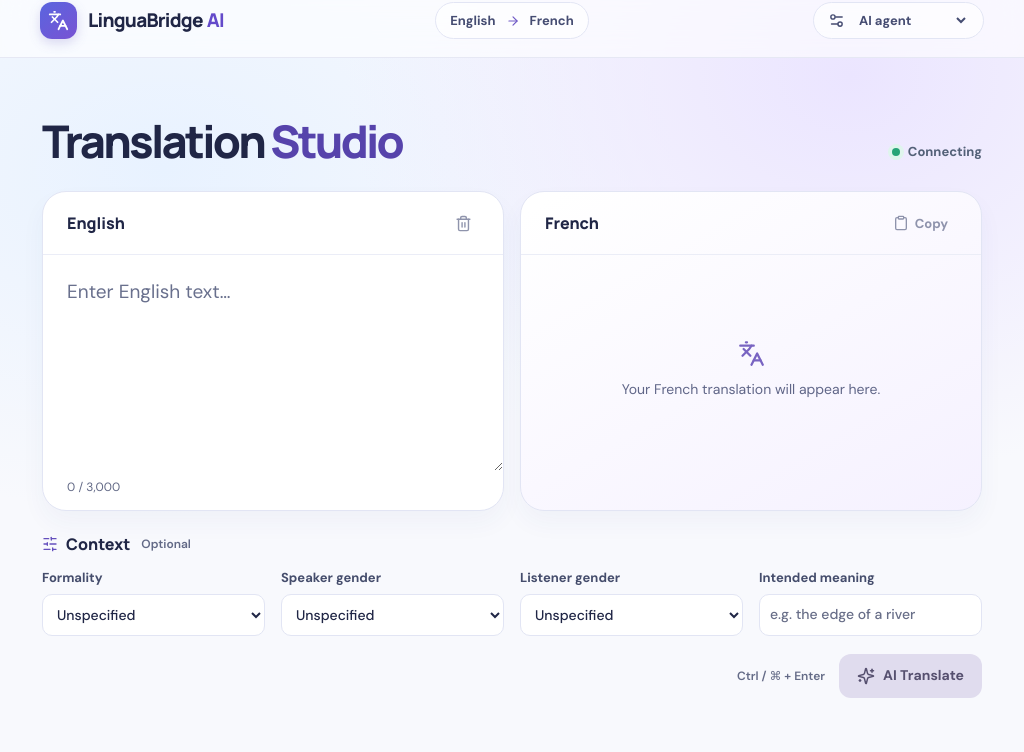
Test: translation studio › shows a request failure and lets the user retry
Type "Hello." into the text box labelled "English".
click(273, 364); type("Hello.")  # box top-left (43, 256), bottom-right (503, 472)
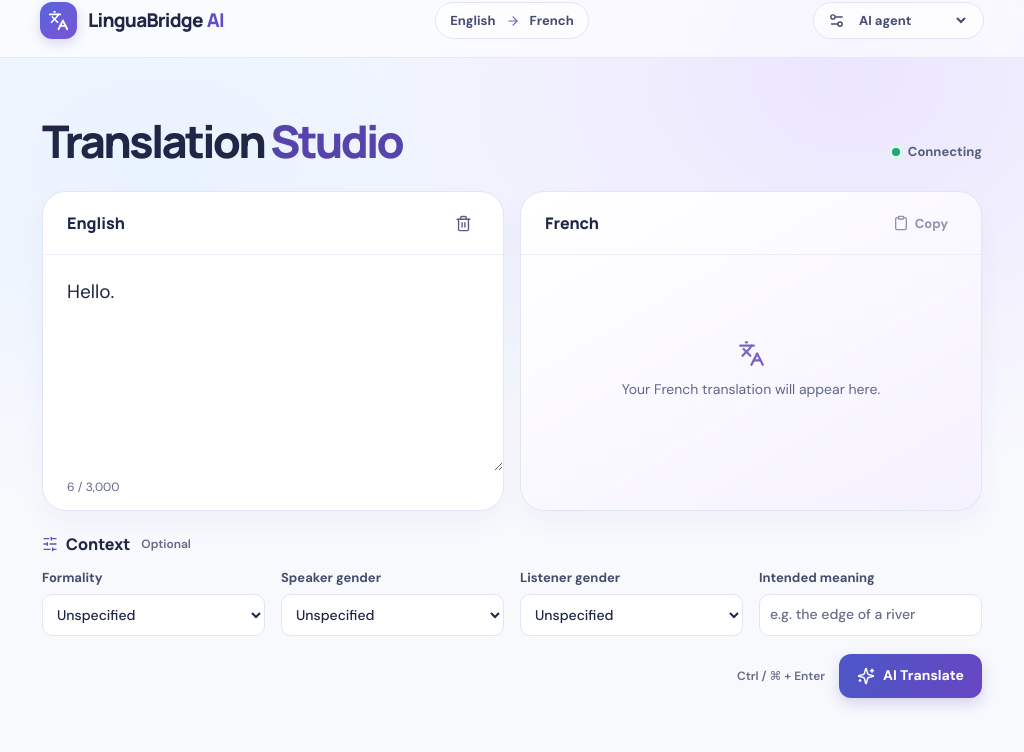
Click the button "AI Translate".
click(911, 676)  # box top-left (839, 654), bottom-right (982, 698)
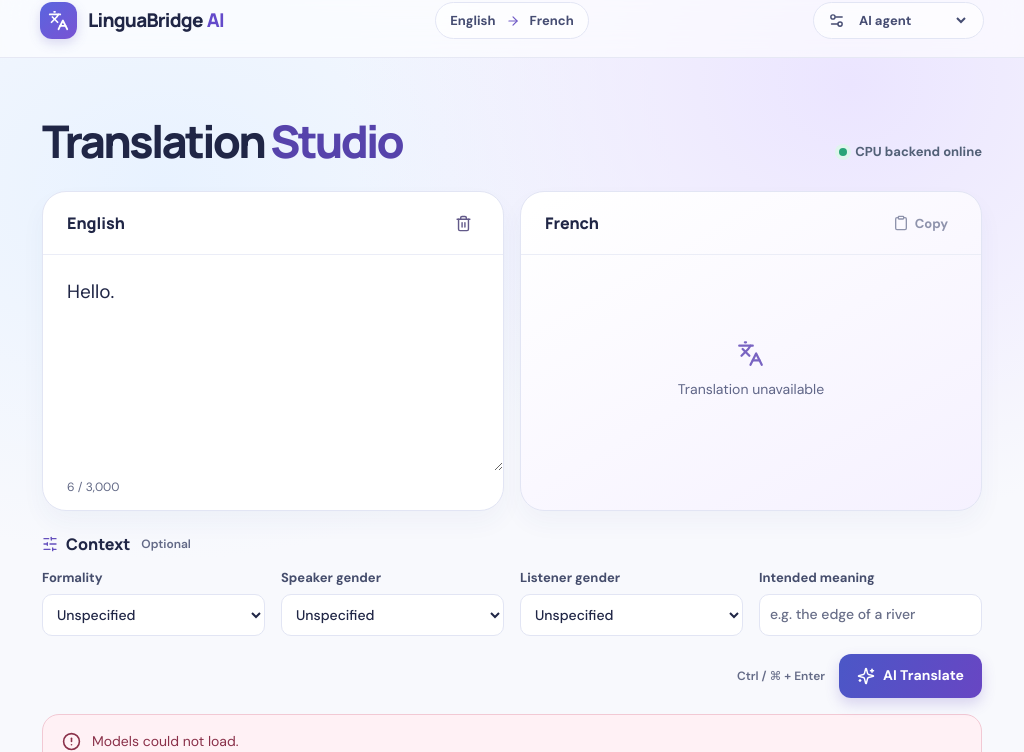
Expected: the button "AI Translate" is enabled
Expected: the text "Translation unavailable" is shown, top-left (678, 379), bottom-right (824, 400)
Click the button "AI Translate".
click(911, 676)  # box top-left (839, 654), bottom-right (982, 698)
(page scrolled)
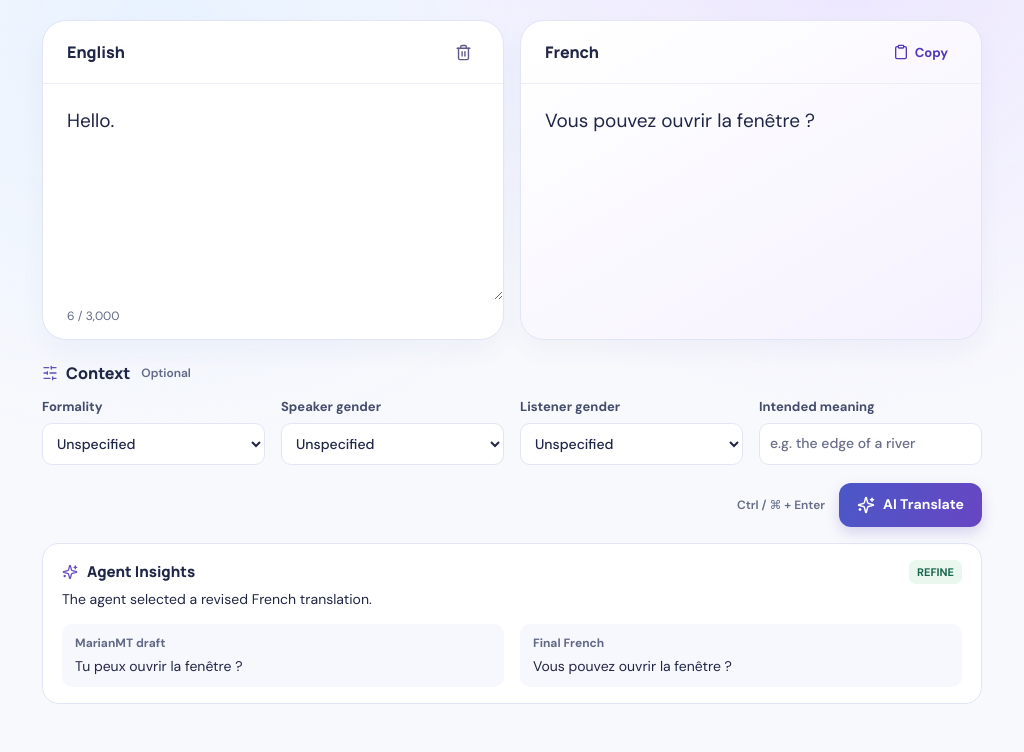
Expected: the text "REFINE" is shown, top-left (909, 560), bottom-right (962, 584)
